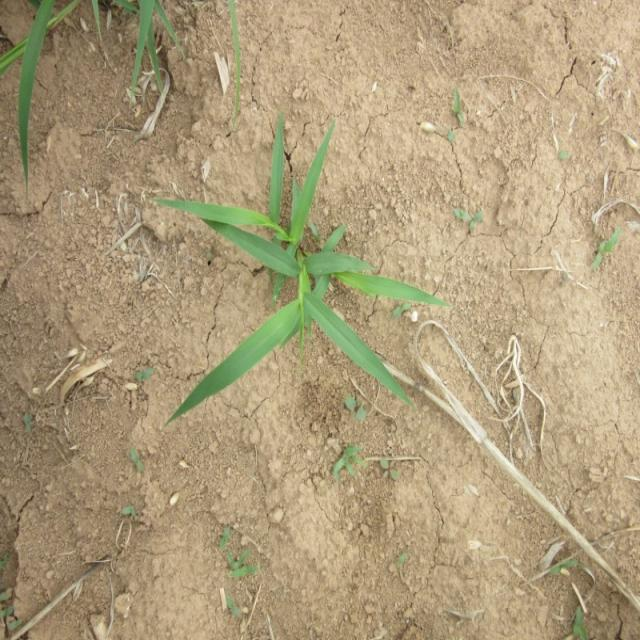bg: (148, 119, 478, 416)
